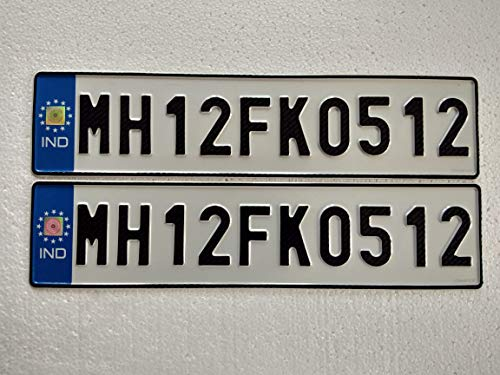numberplate: (32, 67, 480, 180), (28, 180, 485, 290)
